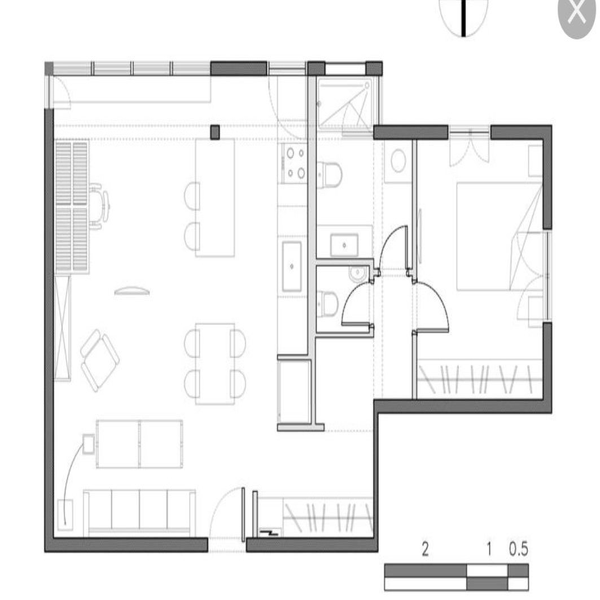door: (514, 227, 554, 322), (414, 282, 467, 339), (266, 66, 307, 139), (210, 484, 251, 549), (377, 217, 420, 276), (332, 280, 377, 330)
room: (40, 54, 330, 555), (411, 120, 559, 417), (302, 50, 428, 277)
wall: (39, 109, 61, 555), (303, 76, 324, 435), (35, 525, 209, 559), (370, 393, 554, 420), (245, 530, 380, 558), (369, 393, 388, 534), (405, 144, 425, 276), (536, 323, 557, 416), (538, 124, 555, 230), (487, 124, 554, 150), (207, 54, 269, 80), (369, 123, 454, 141), (314, 254, 376, 273), (408, 332, 424, 401), (316, 328, 373, 344), (360, 53, 387, 80), (303, 55, 328, 79), (274, 421, 311, 436), (279, 351, 315, 363)
